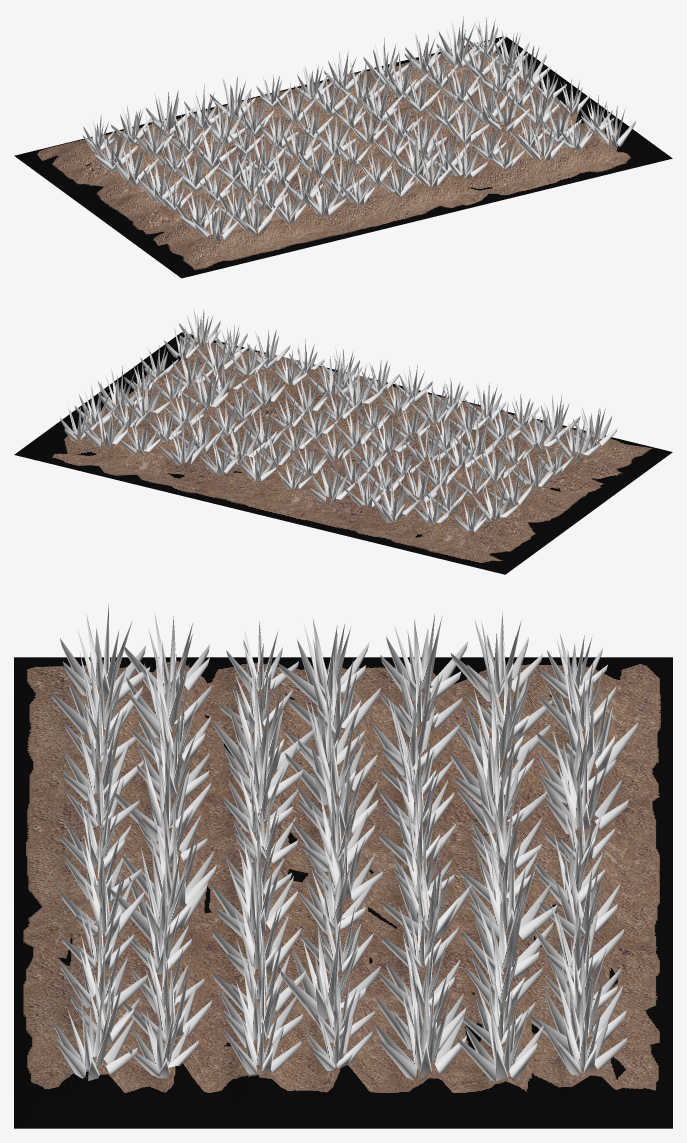
File: HexFarm.fbx
3 renders of one model, top to bottom at view 1: azimuth 30°, elevation 25°; view 2: azimuth 150°, elevation 25°; view 3: azimuth 270°, elevation 25°, orthographic. The views are drawn at different scales.
Visible parts, largest first — view 1: FarmSalad; view 2: FarmSalad; view 3: FarmSalad.
Part boxes in pixels (x1=…): FarmSalad: x1=14, y1=16, x2=672, y2=278; FarmSalad: x1=14, y1=308, x2=672, y2=574; FarmSalad: x1=14, y1=605, x2=672, y2=1128.
Size of the model in its own units: 114 by 11.54 by 67.36.
